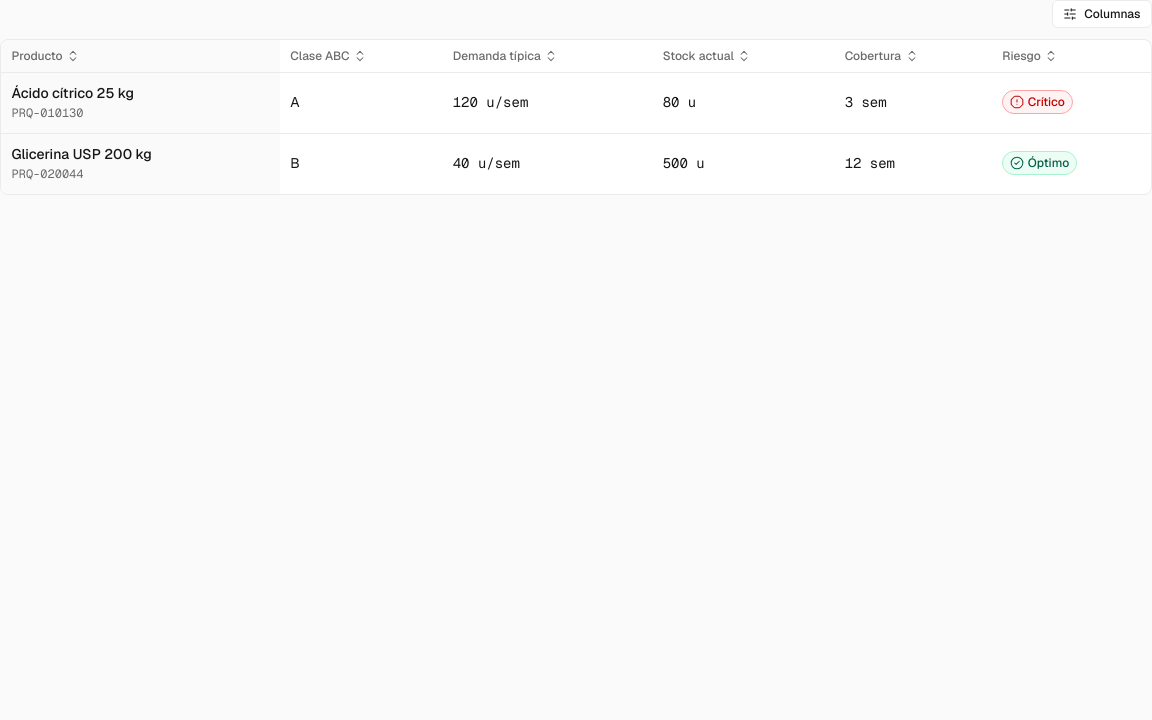
it: ProductTable › column picker hides and shows optional columns
Later steps or results of the test are not shown.
Click the button "Columnas". click: (1102, 14)
box: [1052,0,1151,28]
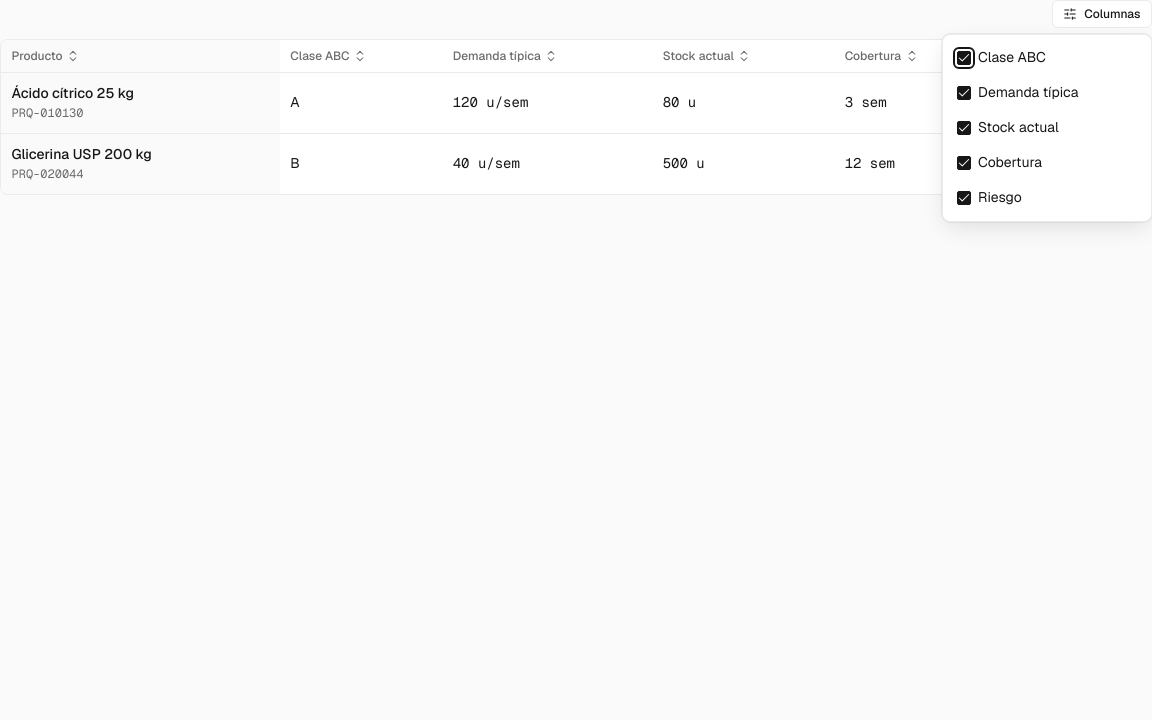
Check: the checkbox named "Stock actual" is checked, box [957,121,971,135]
